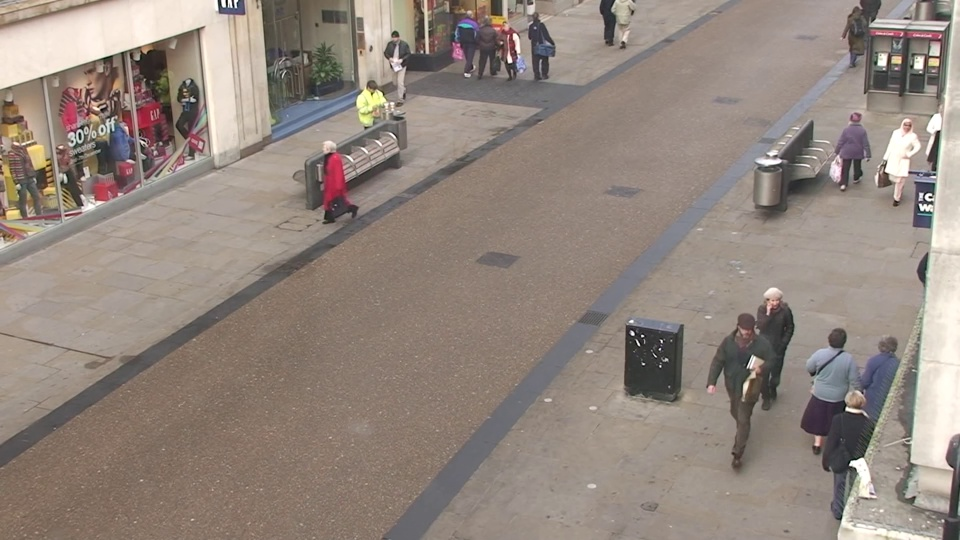pedestrian: (820, 379, 883, 540), (852, 325, 913, 479), (804, 321, 860, 472), (718, 310, 770, 457), (745, 282, 796, 421), (882, 113, 926, 212), (833, 107, 872, 202), (313, 136, 349, 236), (358, 77, 389, 162), (837, 3, 868, 73), (384, 29, 410, 99), (495, 18, 520, 87), (477, 15, 502, 82), (458, 6, 482, 71), (523, 11, 546, 77)
